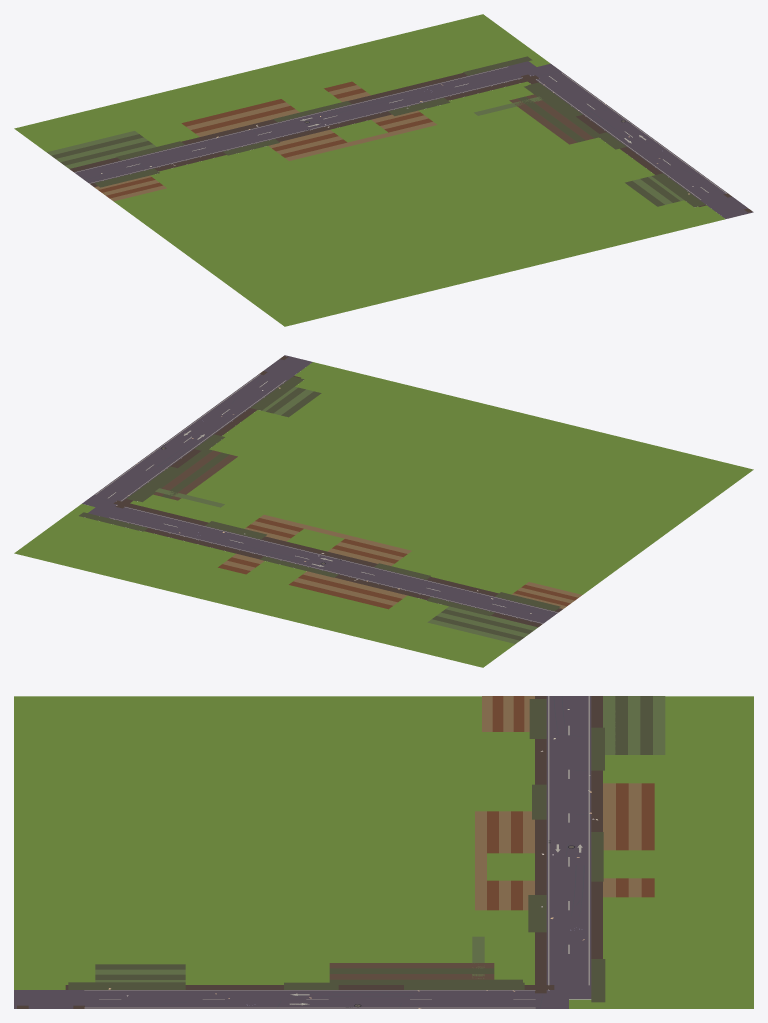
File: cure-18-1.glb
The picture shows the model from 3 angles, top to bottom: view 1: azimuth 30°, elevation 25°; view 2: azimuth 150°, elevation 25°; view 3: azimuth 270°, elevation 25°; orthographic projection. The views are drawn at different scales.
Visible parts, largest first — view 1: cure-18-1; view 2: cure-18-1; view 3: cure-18-1.
Boxes of the visible parts, left/top/right/bottom form: cure-18-1: left=14, top=14, right=753, bottom=326; cure-18-1: left=14, top=355, right=753, bottom=667; cure-18-1: left=14, top=696, right=753, bottom=1008.
Size of the model in its own units: 100 by 0.017 by 100.
